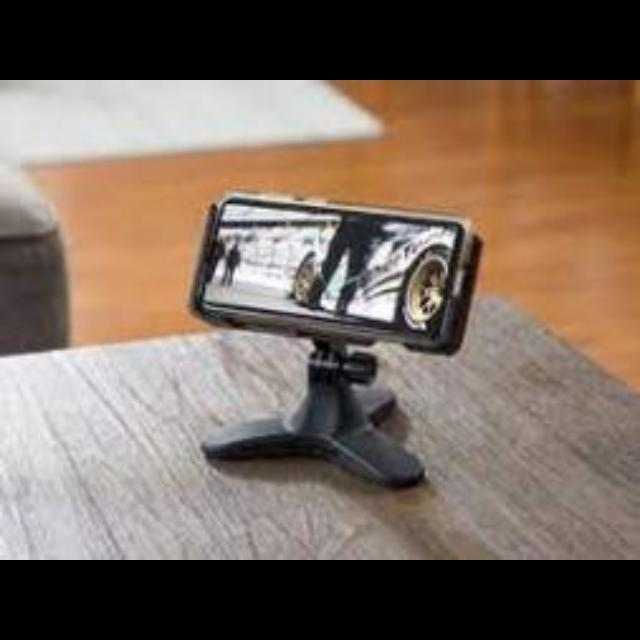Phone: (190, 190, 468, 320)
